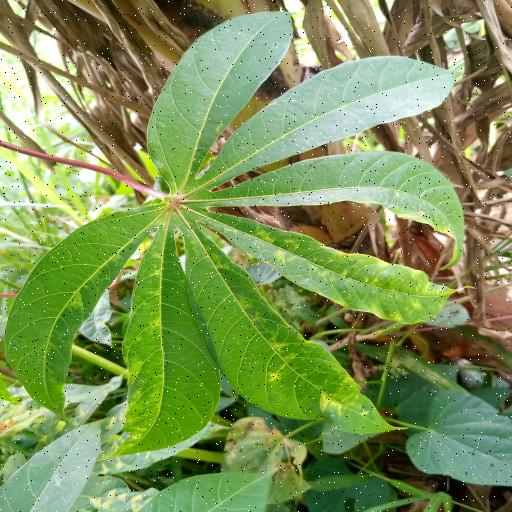Cassava_Mosaic: (9, 10, 479, 463)
